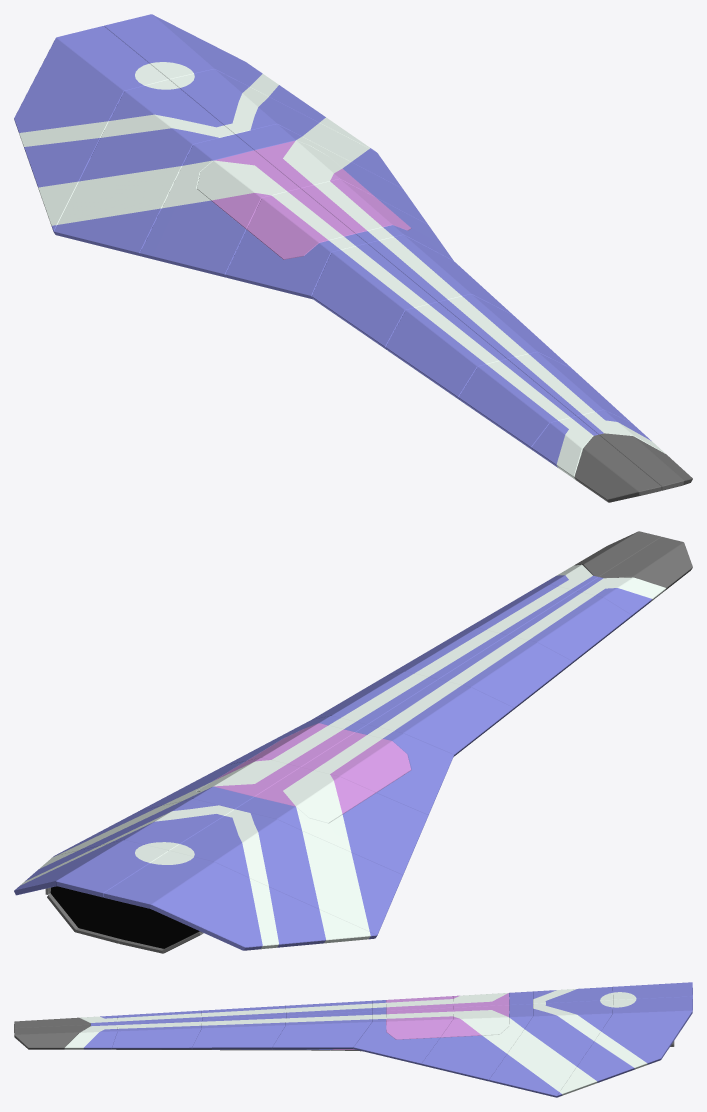
File: ark_nova_v3.fbx
The picture shows the model from 3 angles, top to bottom: view 1: azimuth 30°, elevation 25°; view 2: azimuth 150°, elevation 25°; view 3: azimuth 270°, elevation 25°; orthographic projection. The views are drawn at different scales.
Parts seen in each view (by area): view 1: Armor Top, Armor Top Hatch; view 2: Armor Top, Armor Top Hatch, Hull, Armor Bottom Nozzle; view 3: Armor Top, Armor Top Hatch, Armor Bottom.
Boxes of the visible parts, x1,y1,x2,y2 form: Armor Top: [14, 14, 692, 502]; Armor Top Hatch: [197, 140, 411, 259]; Armor Top: [14, 531, 692, 950]; Armor Top Hatch: [197, 723, 411, 823]; Hull: [50, 886, 199, 948]; Armor Bottom Nozzle: [45, 887, 203, 953]; Armor Top: [14, 982, 692, 1097]; Armor Top Hatch: [386, 993, 509, 1039]; Armor Bottom: [112, 1049, 361, 1051].
Size of the model in its own units: 424 by 111 by 1266.
